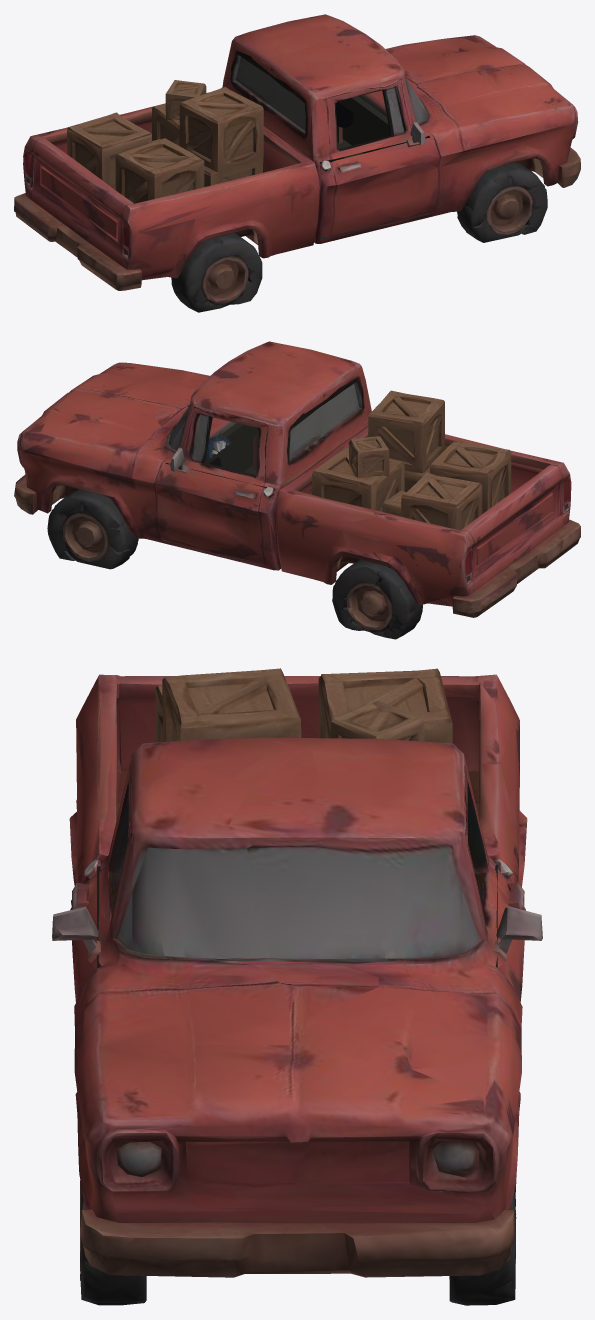
File: pickup_b.glb
The picture shows the model from 3 angles, top to bottom: view 1: azimuth 30°, elevation 25°; view 2: azimuth 150°, elevation 25°; view 3: azimuth 270°, elevation 25°; orthographic projection. The views are drawn at different scales.
Parts seen in each view (by area): view 1: body, door_front_1, hood, tailgate, wheel_1, wheel_4; view 2: body, door_back_1, hood, tailgate, wheel_2, wheel_3; view 3: body, hood, door_back_1, door_front_1, wheel_4, wheel_3.
Boxes of the visible parts, x1,y1,x2,y2 form: body: (14,14,580,312); door_front_1: (308,77,439,243); hood: (385,35,573,140); tailgate: (14,137,136,283); wheel_1: (202,233,266,306); wheel_4: (490,158,557,235); body: (14,341,580,639); door_back_1: (156,403,286,570); hood: (22,362,209,467); tailgate: (459,464,580,609); wheel_2: (328,559,392,632); wheel_3: (41,486,104,562); body: (69,668,527,1305); hood: (84,971,511,1126); door_back_1: (462,753,542,1001); door_front_1: (52,753,132,1002); wheel_4: (80,1180,146,1302); wheel_3: (449,1186,516,1299).
Bounding box in the file's own units: 5.2 × 1.91 × 2.33.
6 materials, 4 textured.
